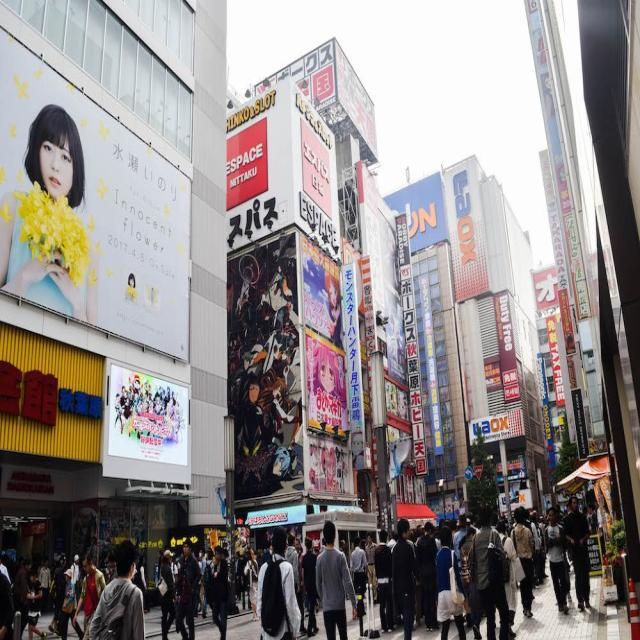body: (233, 255, 355, 501), (0, 98, 97, 318), (373, 507, 510, 571), (112, 370, 187, 466), (464, 505, 512, 639), (88, 538, 146, 640), (254, 524, 302, 639), (315, 518, 359, 639), (153, 545, 234, 610), (389, 517, 422, 639), (434, 523, 468, 639), (495, 519, 526, 640), (561, 493, 592, 611), (542, 506, 571, 616), (72, 551, 107, 640), (509, 506, 535, 619), (175, 536, 203, 639), (414, 520, 438, 634), (373, 528, 396, 634), (262, 538, 365, 560), (0, 552, 25, 640), (207, 544, 230, 639), (154, 548, 178, 639), (300, 535, 320, 638), (530, 506, 608, 532), (60, 565, 85, 639), (13, 557, 34, 640), (24, 569, 48, 639), (122, 271, 162, 313), (48, 551, 68, 634), (53, 553, 70, 635), (243, 546, 261, 622), (349, 537, 368, 601), (283, 531, 301, 595), (364, 532, 379, 606), (201, 549, 215, 620), (452, 511, 468, 573), (530, 512, 542, 590), (36, 556, 52, 614), (594, 496, 608, 560), (294, 536, 305, 610), (246, 549, 259, 611), (233, 550, 246, 602), (196, 546, 206, 612), (70, 553, 81, 607), (136, 554, 148, 593), (587, 502, 599, 535), (516, 464, 526, 479), (598, 495, 601, 506)
